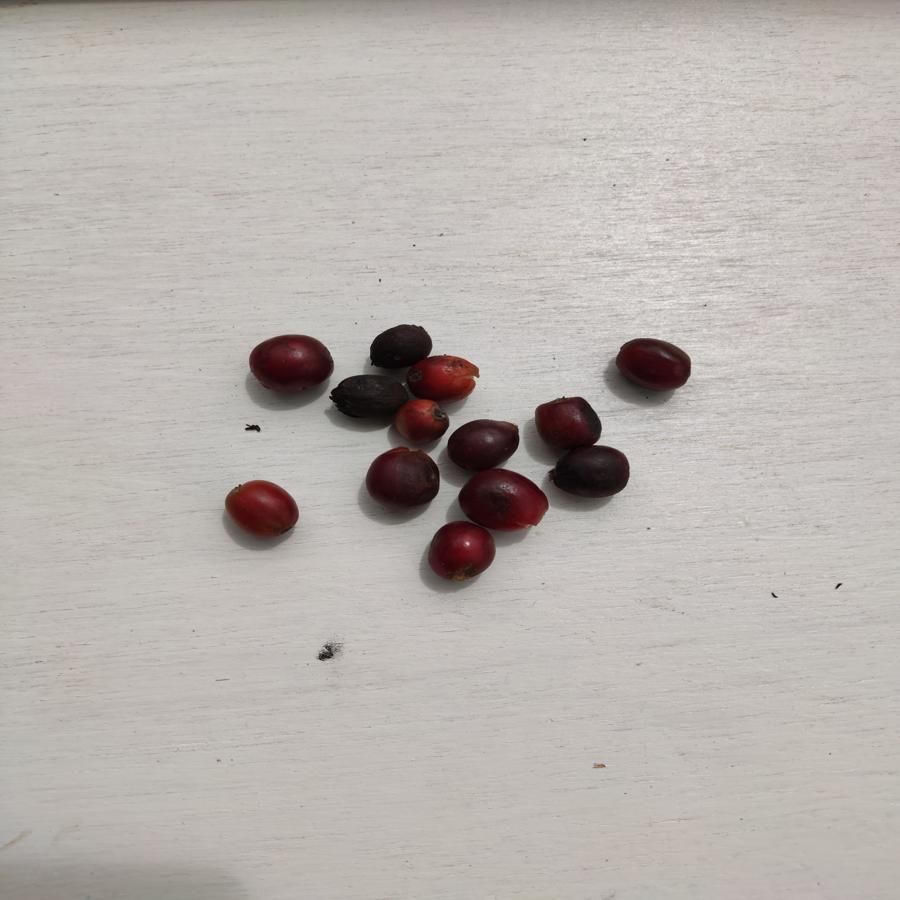Maduro: (226, 476, 301, 543)
Sobremaduro: (459, 467, 550, 535), (548, 446, 640, 503), (245, 335, 334, 393), (363, 447, 442, 510), (613, 335, 697, 394), (422, 520, 496, 581), (532, 392, 604, 450), (329, 372, 409, 421), (365, 323, 441, 371), (445, 416, 519, 465), (411, 354, 479, 402), (394, 399, 446, 445)
